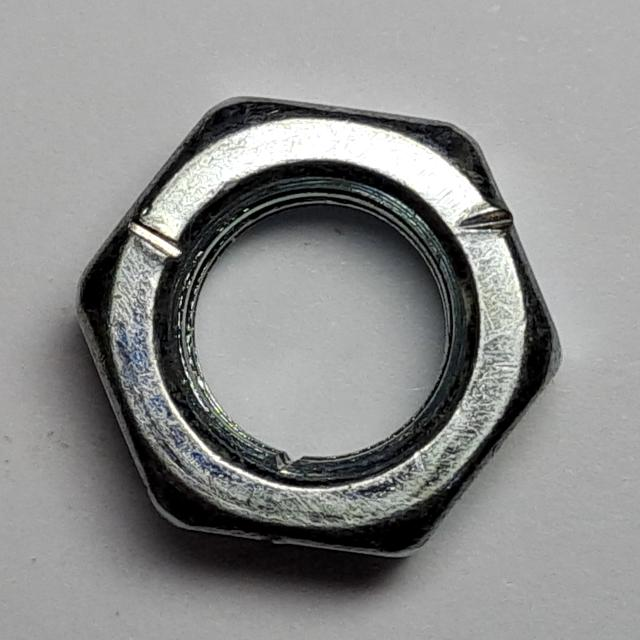Scratches: (66, 81, 572, 570)
